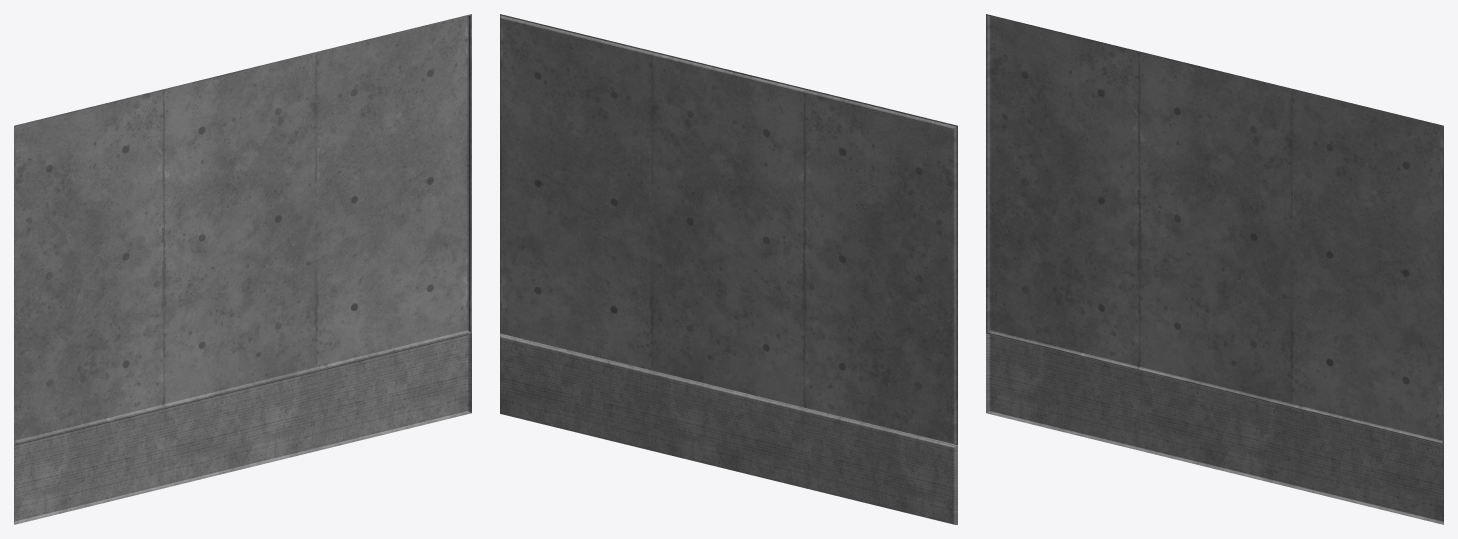
Rendered from SM_Wall_29.fbx.
3 renders of one model, left to right at view 1: azimuth 30°, elevation 25°; view 2: azimuth 150°, elevation 25°; view 3: azimuth 330°, elevation 25°, orthographic.
Parts seen in each view (by area): view 1: SM_Wall_30; view 2: SM_Wall_30; view 3: SM_Wall_30.
Part boxes in pixels (x1=…): SM_Wall_30: x1=14, y1=14, x2=471, y2=524; SM_Wall_30: x1=500, y1=14, x2=957, y2=524; SM_Wall_30: x1=986, y1=14, x2=1443, y2=524.
Size of the model in its own units: 300 by 250 by 2.
